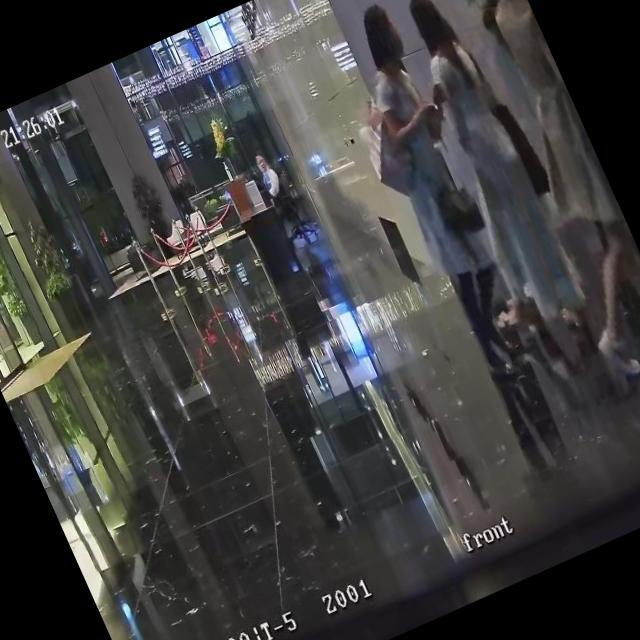person: (389, 0, 623, 382), (326, 0, 550, 389), (422, 0, 640, 383), (348, 102, 398, 182), (250, 149, 286, 202)
